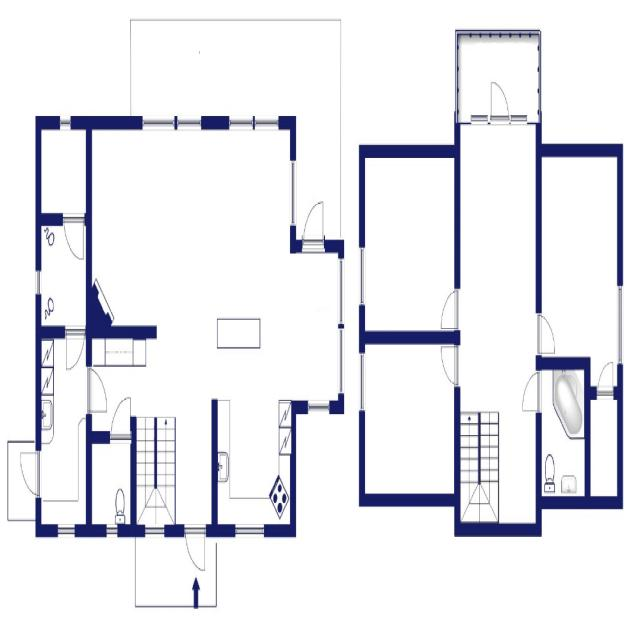door: (302, 192, 323, 253), (184, 524, 205, 582), (63, 214, 84, 272), (15, 453, 41, 497), (86, 369, 112, 412), (534, 314, 560, 355), (516, 370, 541, 412), (110, 388, 129, 443), (66, 325, 84, 378), (436, 347, 460, 386), (436, 289, 460, 328), (490, 71, 507, 123), (596, 350, 612, 400)
